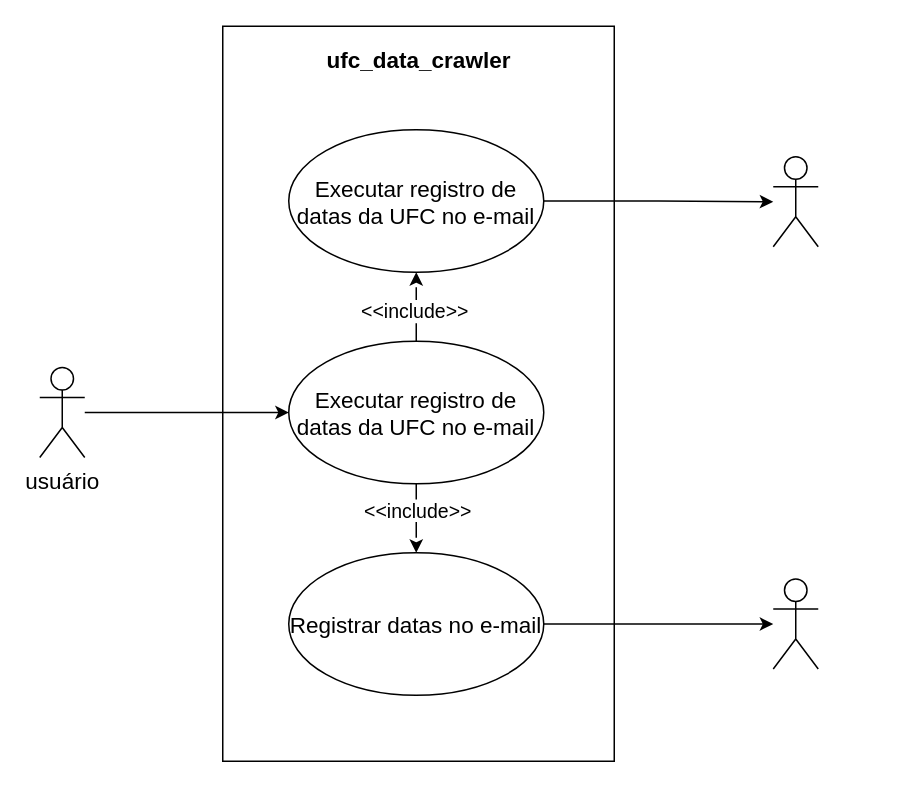
This 906x788 diagram has some shape labels left out. The shapes that lost their labels are listed below. From the top down, each one's centre as x and y in pixels, then its label:
At pixel 795 201: "site da UFC".
At pixel 795 623: "serviço de e-mail".
